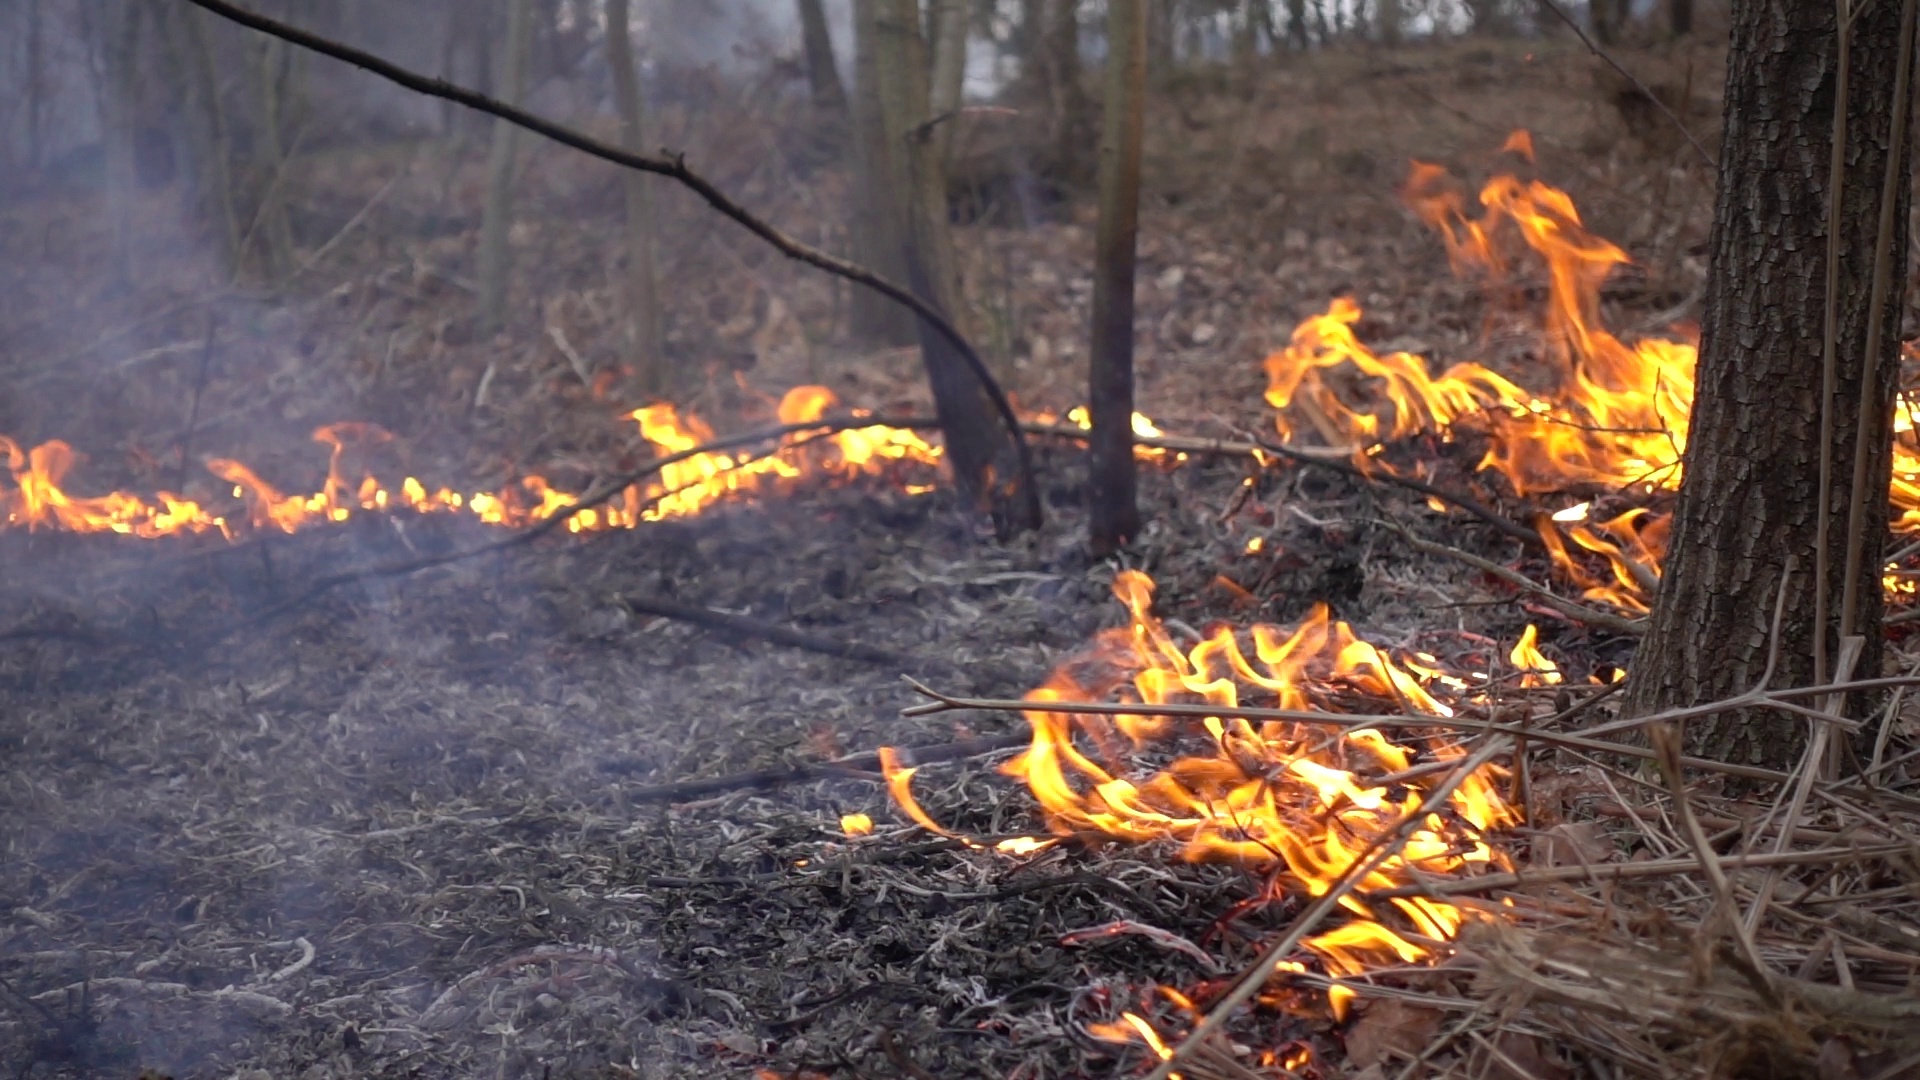fire: (977, 587, 1511, 973), (1269, 156, 1689, 595), (636, 382, 935, 520), (7, 438, 345, 549), (400, 475, 632, 531), (1891, 397, 1920, 527), (1513, 622, 1549, 684)
